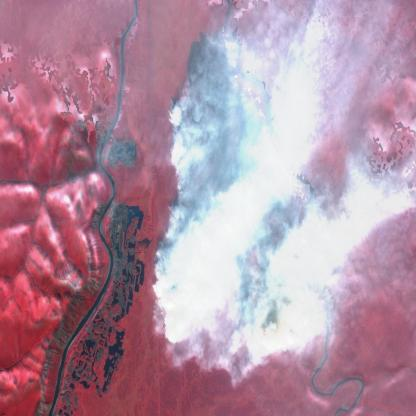fire: (152, 24, 308, 359)
